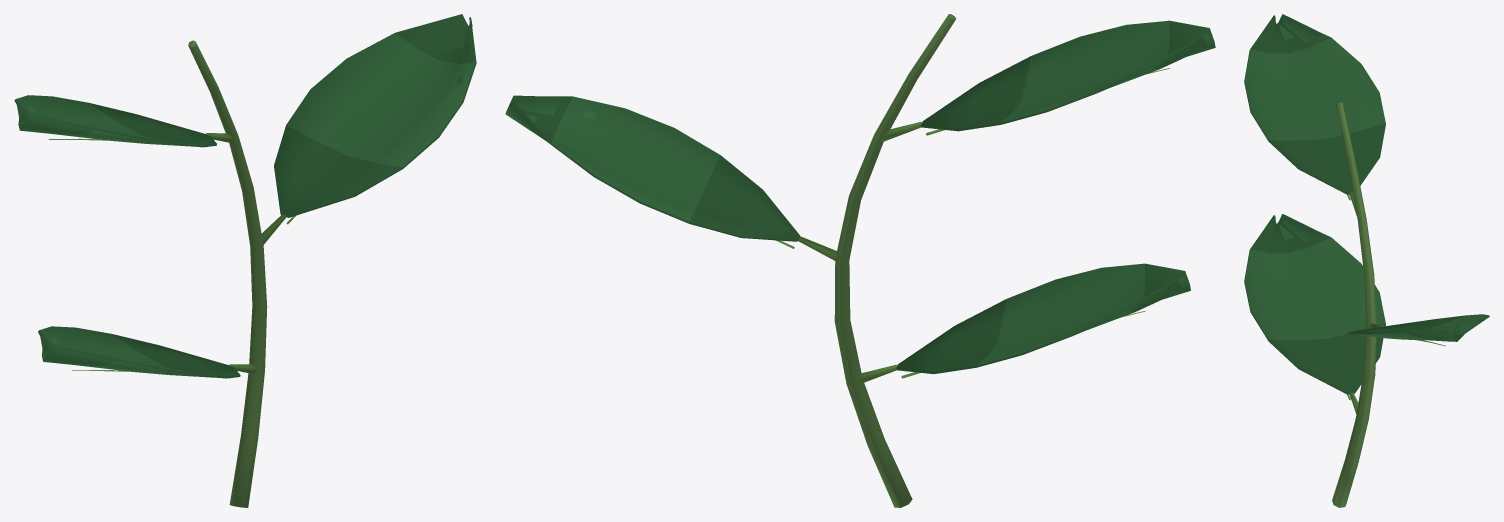
File: garden-orchid-leaves-stem-3.glb
3 renders of one model, left to right at view 1: azimuth 30°, elevation 25°; view 2: azimuth 150°, elevation 25°; view 3: azimuth 270°, elevation 25°, orthographic. The views are drawn at different scales.
Parts seen in each view (by area): view 1: orchid-leaves-stem-3; view 2: orchid-leaves-stem-3; view 3: orchid-leaves-stem-3.
Boxes of the visible parts, x1,y1,x2,y2 form: orchid-leaves-stem-3: (14, 14, 476, 507); orchid-leaves-stem-3: (505, 14, 1215, 507); orchid-leaves-stem-3: (1244, 14, 1489, 507).
Size of the model in its own units: 0.4706 by 0.388 by 0.2208.
